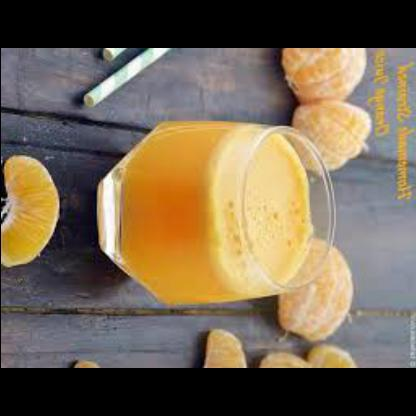orange juice: (116, 120, 312, 308)
